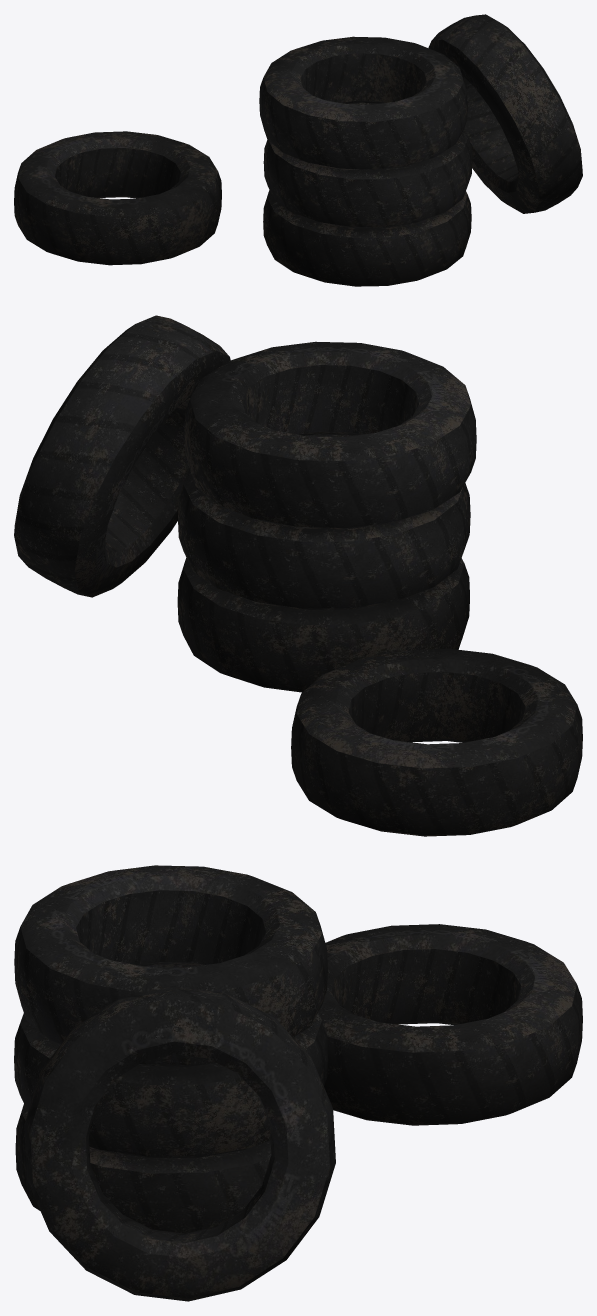
The model's file is tire_stack.glb.
3 views of the same model, one above another, from view 1: azimuth 30°, elevation 25°; view 2: azimuth 150°, elevation 25°; view 3: azimuth 270°, elevation 25° (orthographic). The views are drawn at different scales.
Visible parts, largest first — view 1: tire_stack; view 2: tire_stack; view 3: tire_stack.
Boxes of the visible parts, box(x1,y1,x2,y2) form: tire_stack: box(14, 14, 582, 286); tire_stack: box(14, 315, 582, 836); tire_stack: box(14, 865, 582, 1301).
Size of the model in its own units: 1.66 by 0.6888 by 1.22.
1 material, 1 textured.
